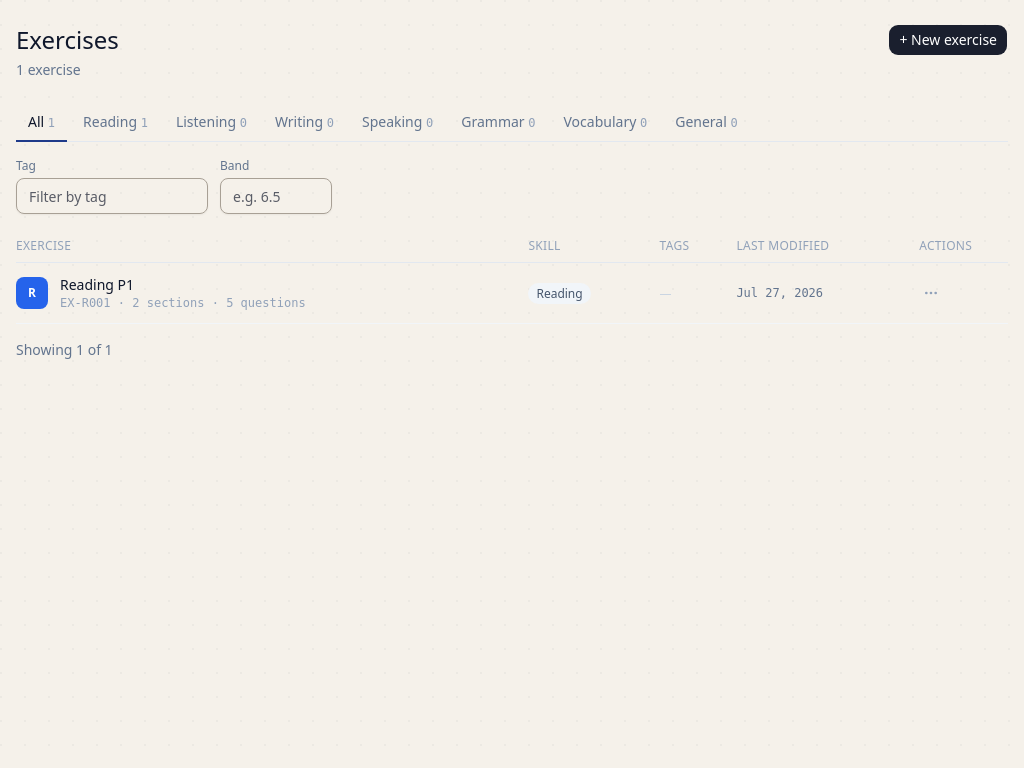
Test case: ExerciseLibraryPage — i18n + a11y (TEST-FE-4/5) › no accessibility violations in the open create dialog (labels associated)
Check: the button "Reading P1" is shown, box 60,275 -> 134,295
What coordinates should you click on to do the following:
click the button with test id "exercises-new-cta"
I would click on:
 (948, 40)
Its box is 888,24 -> 1008,56.
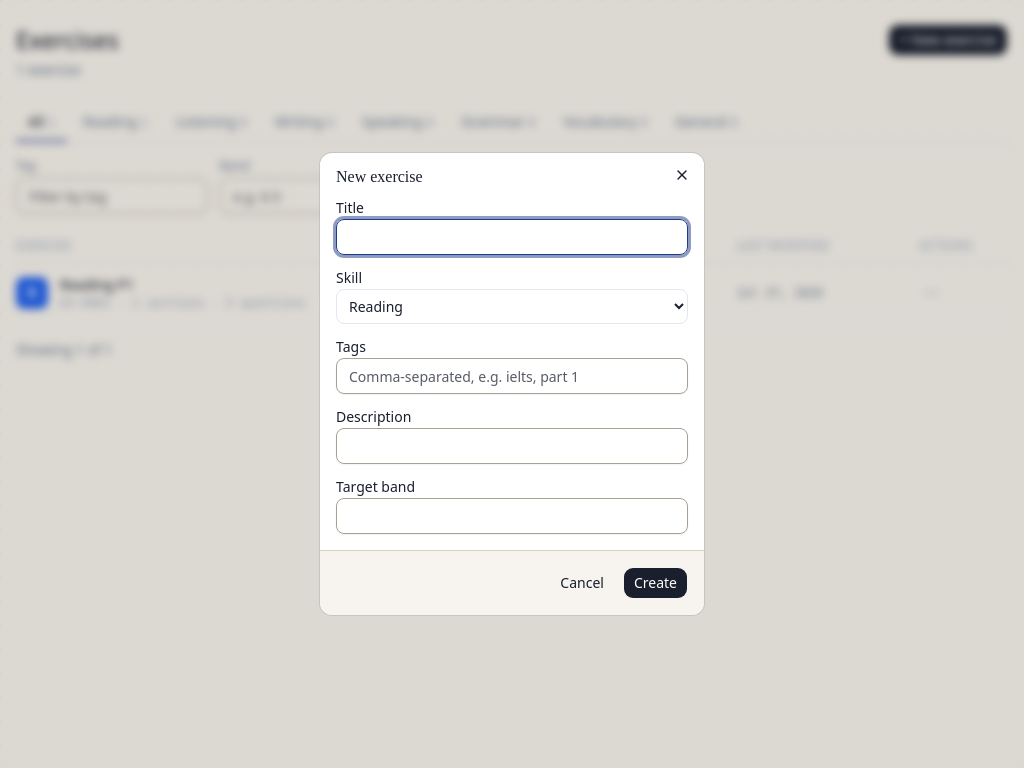
Check: the field with test id "exercise-field-title" is shown, box 336,219 -> 688,255
